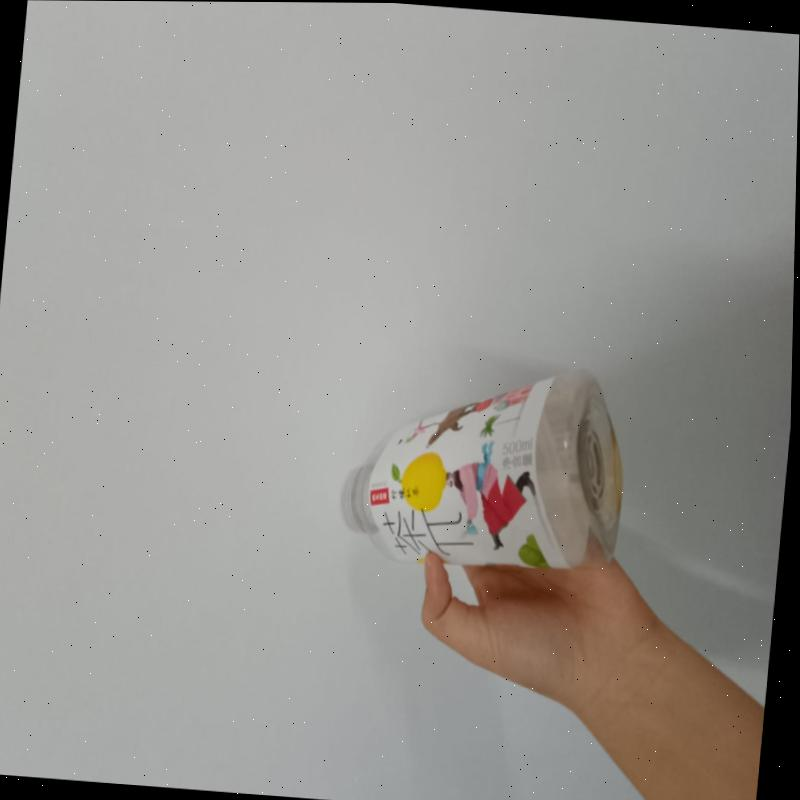botella: (332, 353, 637, 581)
